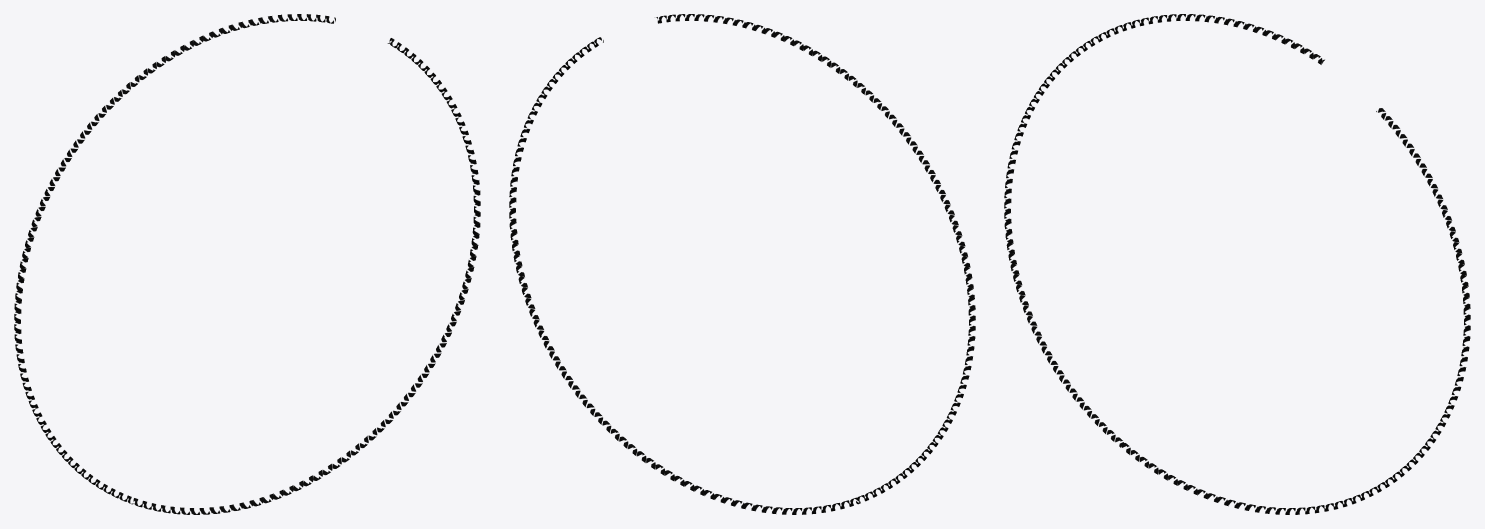
The model's file is alphaMatTest512.glb.
3 views of the same model, side by side, from view 1: azimuth 30°, elevation 25°; view 2: azimuth 150°, elevation 25°; view 3: azimuth 330°, elevation 25° (orthographic).
Parts seen in each view (by area): view 1: 150cm_Band2_main; view 2: 150cm_Band2_main; view 3: 150cm_Band2_main.
Part boxes in pixels (x1,y1,x2,y2): 150cm_Band2_main: (14,14,480,514); 150cm_Band2_main: (509,14,975,514); 150cm_Band2_main: (1004,14,1470,514).
Bounding box in the file's own units: 1.52 × 1.52 × 0.0196.
1 material, 1 textured.
